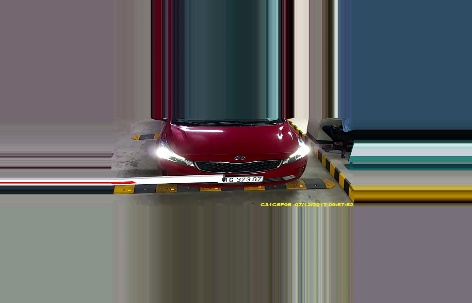plate: (218, 173, 265, 185)
